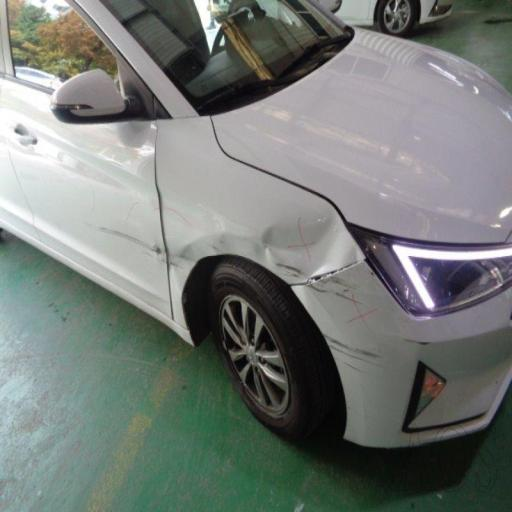scratch: (168, 163, 406, 420)
